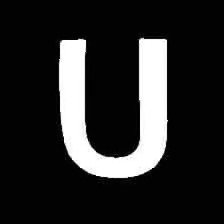LTR_U: (47, 23, 183, 185)
